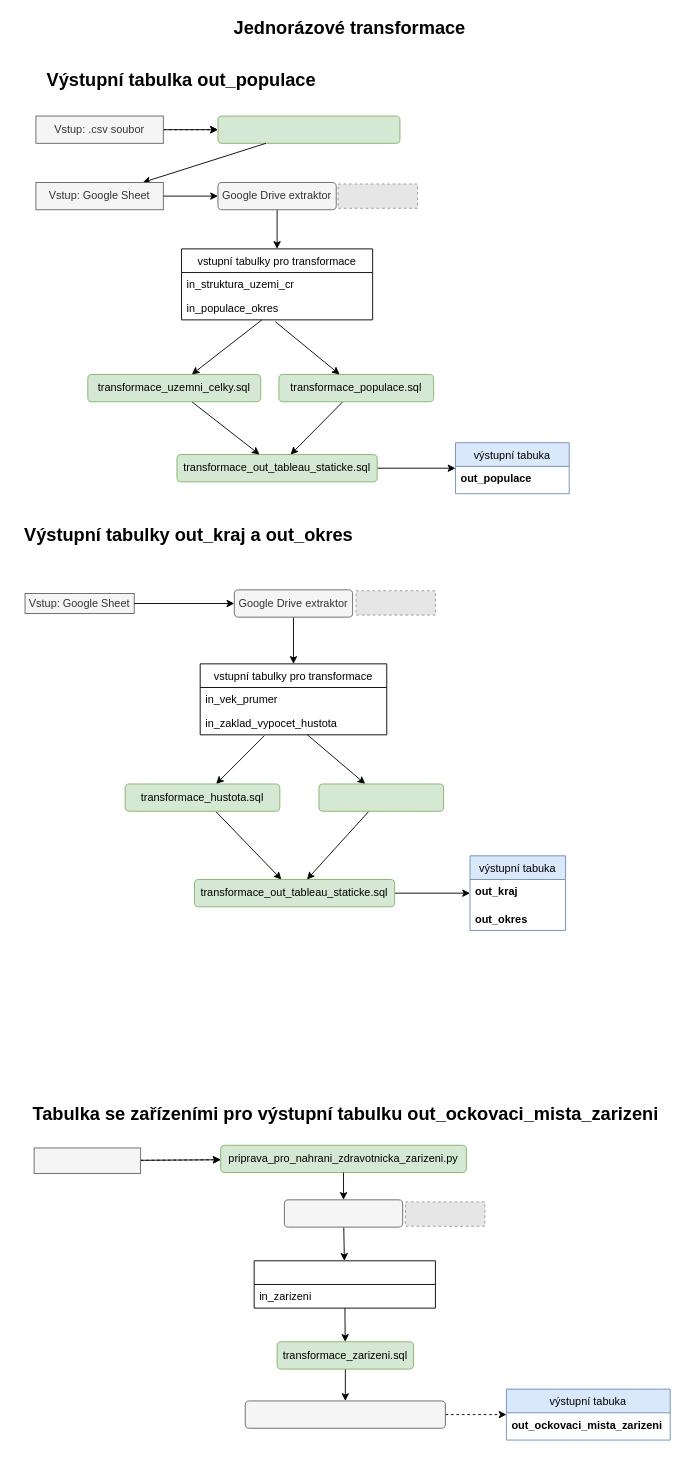
This 691x1458 diagram has some shape labels left out. Grey dashed boxes stand in for pictures. The shapes that lost their labels are listed below. From the top down, each one's box as (x1, y1, x2, y2) in pixels, then its label:
(217, 115, 400, 143): priprava_pro_nahrani_populace.py
(318, 783, 444, 811): transformace_vek.sql
(33, 1147, 141, 1173): Vstup: .xml soubor
(283, 1199, 403, 1227): CSV Import extraktor
(253, 1260, 435, 1308): vstupní tabulka pro transformace
(244, 1400, 445, 1428): Denní orchestrace
